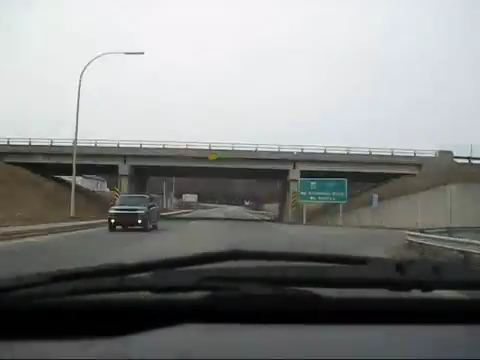car: (108, 192, 159, 231)
